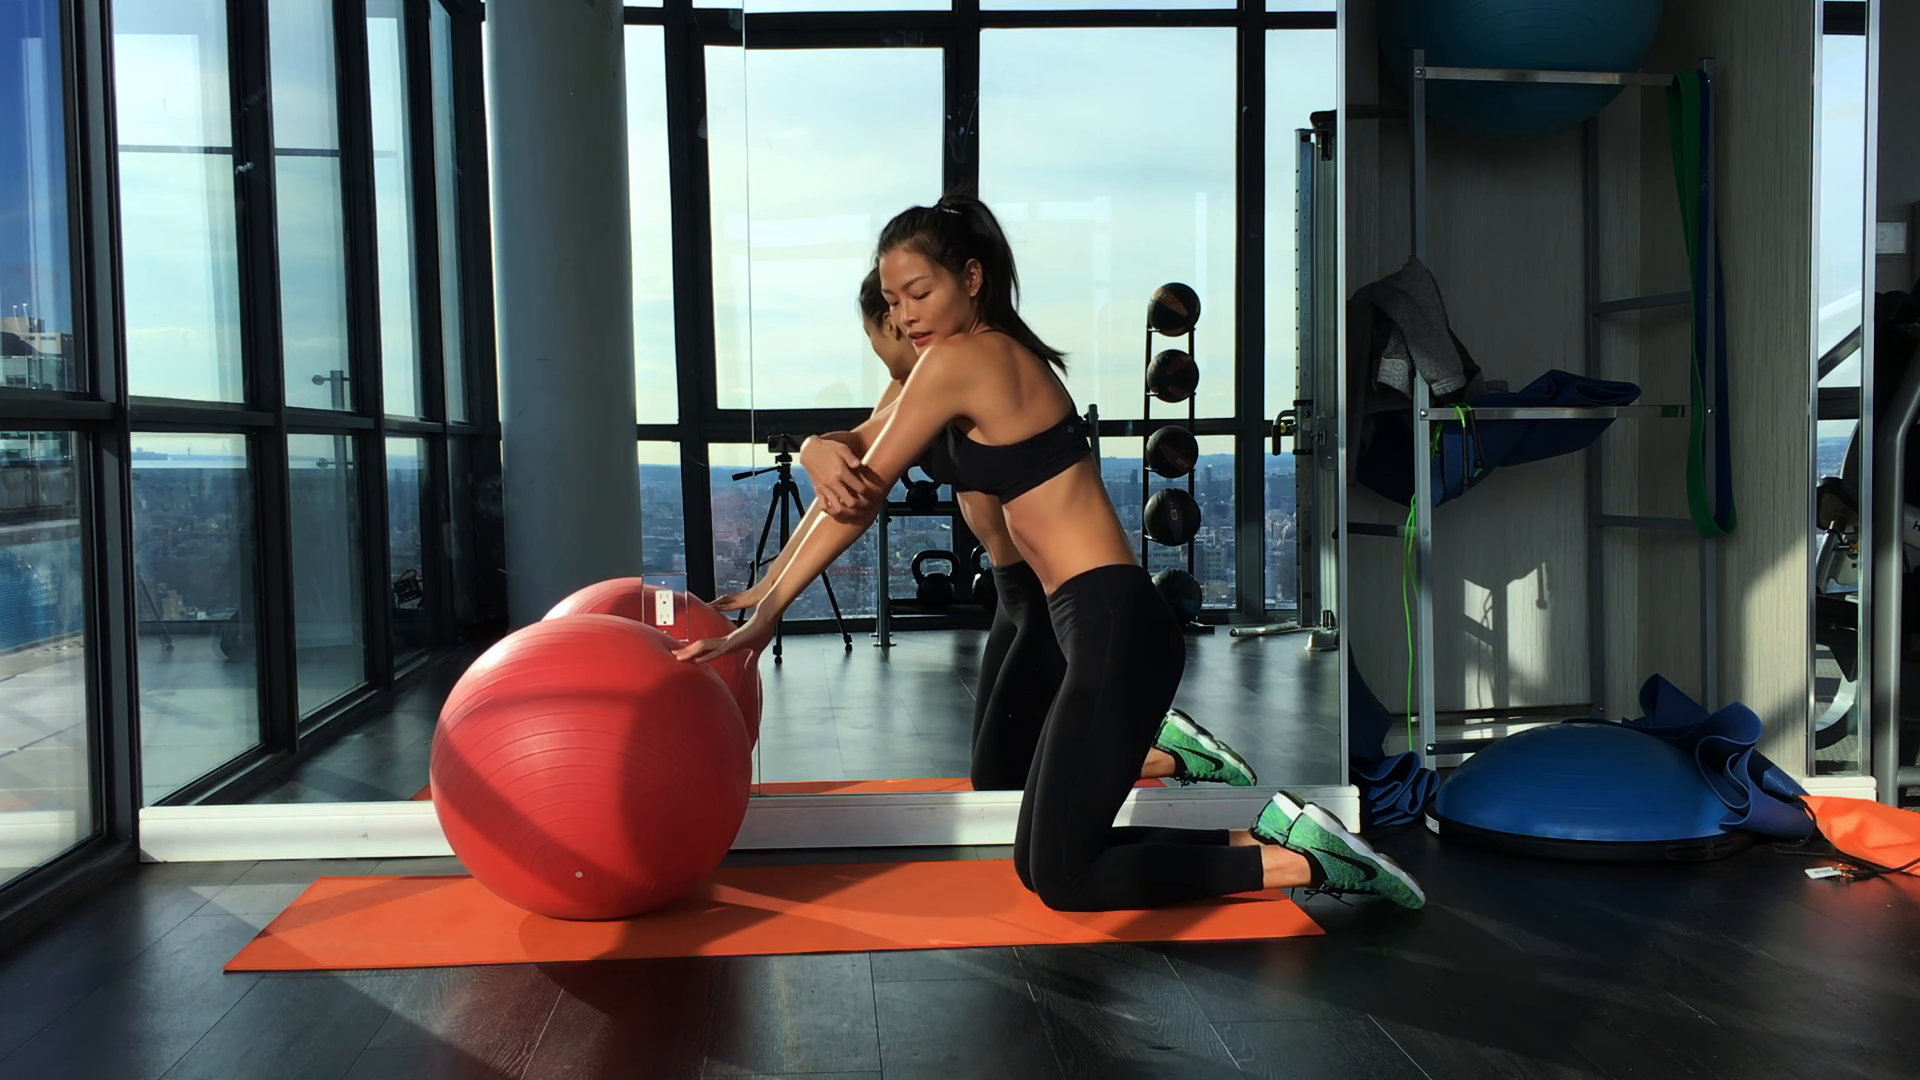yogaball: (415, 608, 752, 927)
